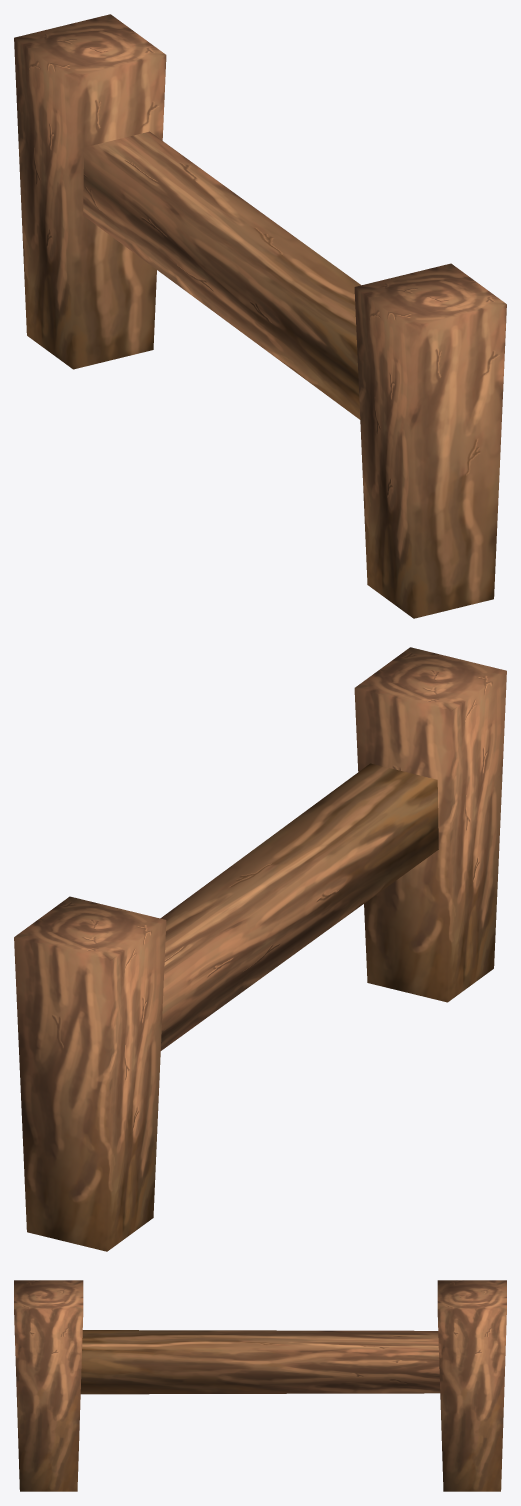
The model's file is Fence.fbx.
The picture shows the model from 3 angles, top to bottom: view 1: azimuth 30°, elevation 25°; view 2: azimuth 150°, elevation 25°; view 3: azimuth 270°, elevation 25°; orthographic projection. The views are drawn at different scales.
Parts seen in each view (by area): view 1: Fence; view 2: Fence; view 3: Fence.
Part boxes in pixels (<box>): Fence: <box>14,14,506,618</box>; Fence: <box>14,647,506,1251</box>; Fence: <box>14,1280,506,1491</box>.
Size of the model in its own units: 43.4 by 127 by 308.
